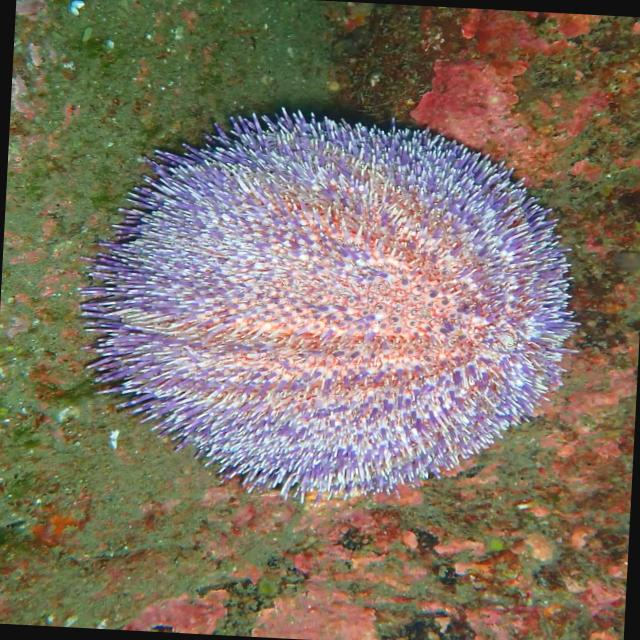Deniz Kestanesi: (68, 92, 590, 520)
